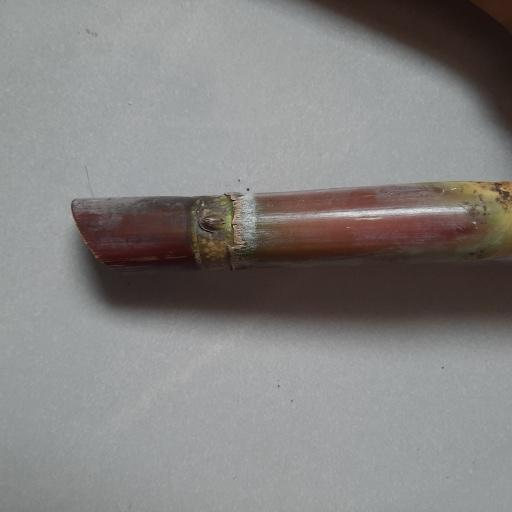Bud: (199, 212, 225, 233)
